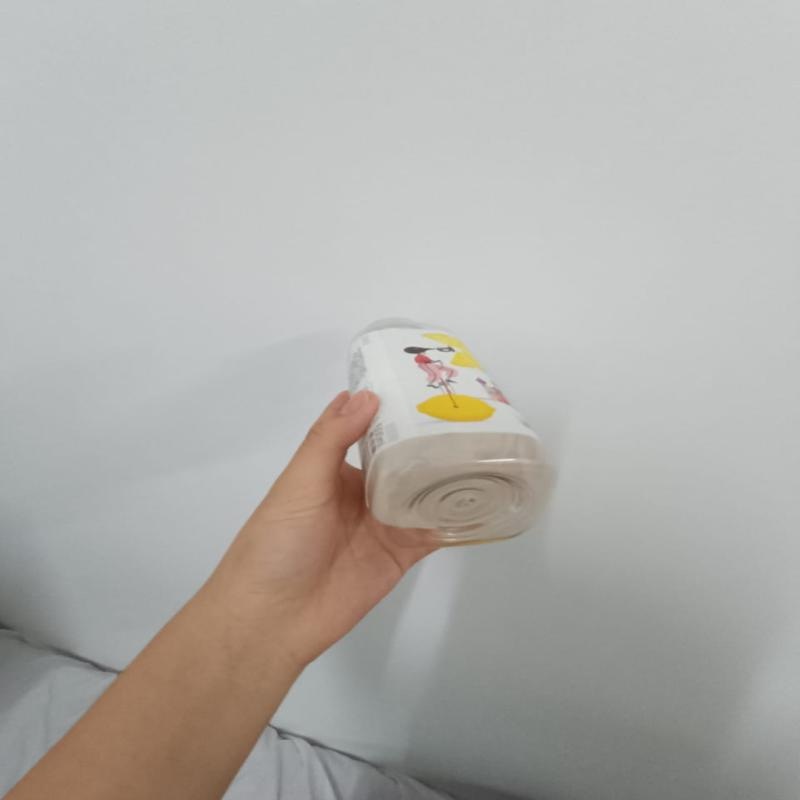botella: (348, 315, 552, 550)
